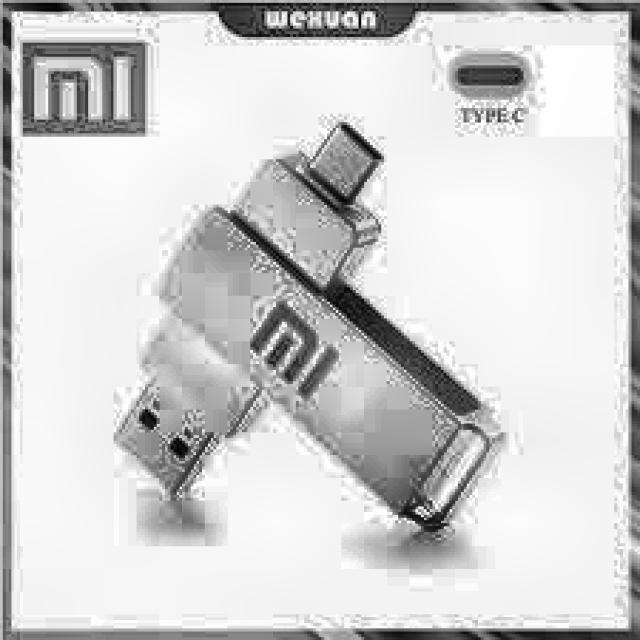Mug: (75, 80, 459, 539)
